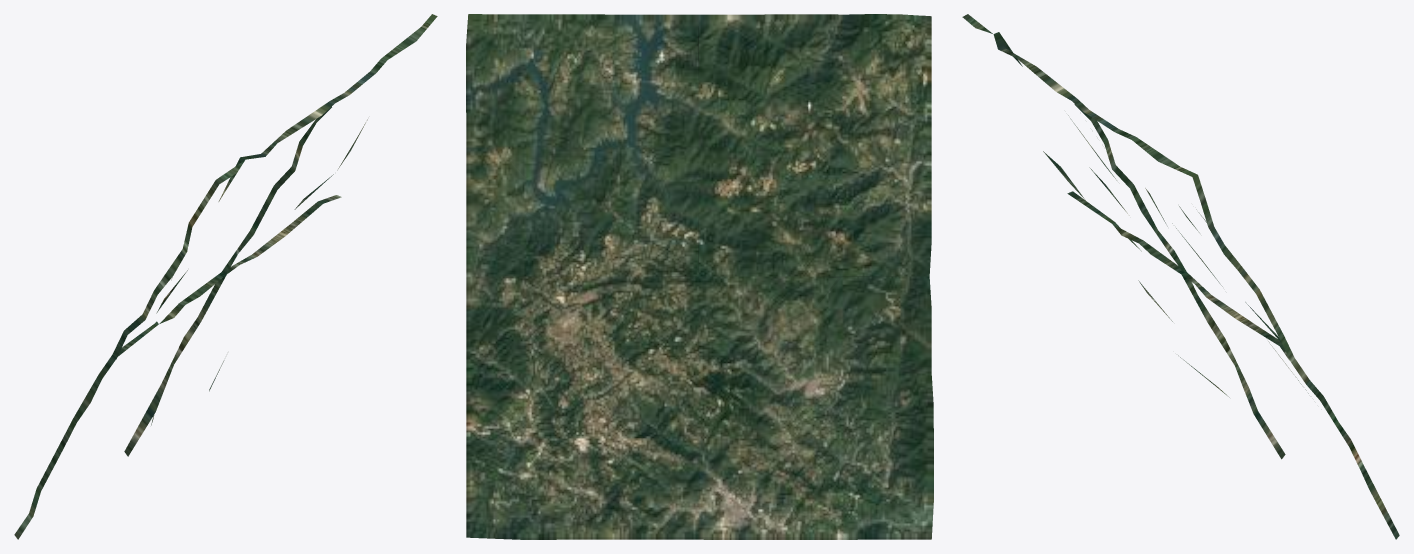
The picture shows the model from 3 angles, left to right: view 1: azimuth 30°, elevation 25°; view 2: azimuth 150°, elevation 25°; view 3: azimuth 270°, elevation 25°; orthographic projection. The views are drawn at different scales.
Size of the model in its own units: 39224 by 35441 by 33700.
1 material, 1 textured.
